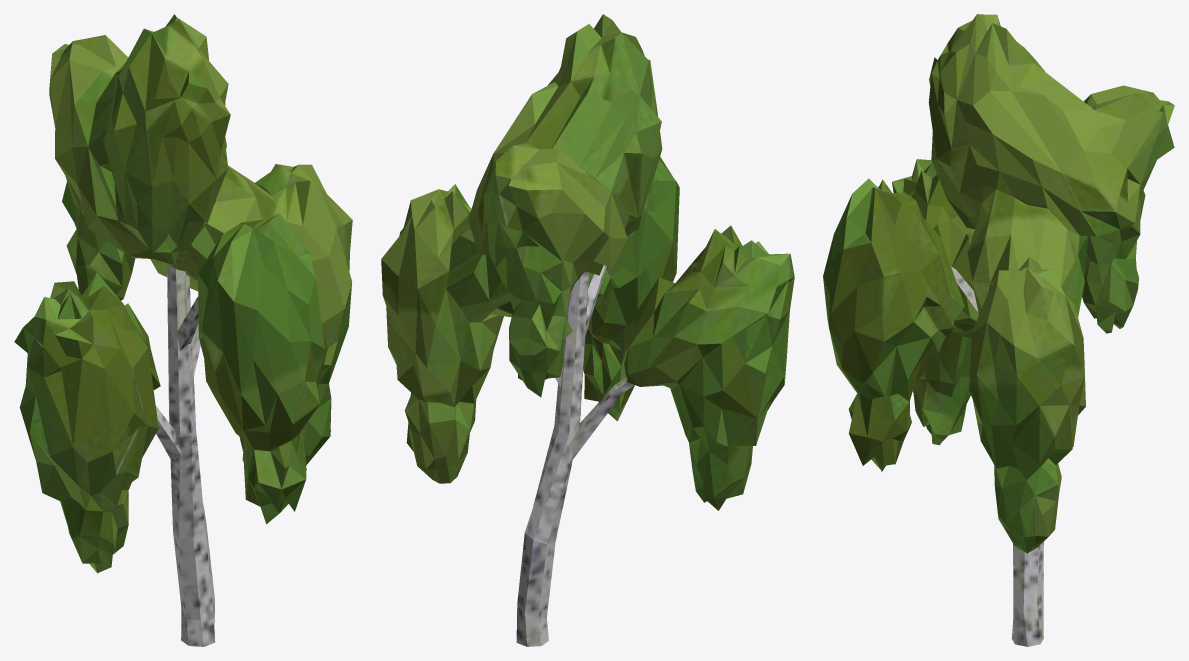
Rendered from tree10.glb.
3 views of the same model, side by side, from view 1: azimuth 30°, elevation 25°; view 2: azimuth 150°, elevation 25°; view 3: azimuth 270°, elevation 25° (orthographic). The views are drawn at different scales.
Visible parts, largest first — view 1: car; view 2: car; view 3: car.
Part boxes in pixels (<box>): car: <box>14,14,352,646</box>; car: <box>381,14,794,646</box>; car: <box>823,14,1174,646</box>.
Bounding box in the file's own units: 1.16 × 1.97 × 1.04.
Materials: 1 (1 with a texture image).
